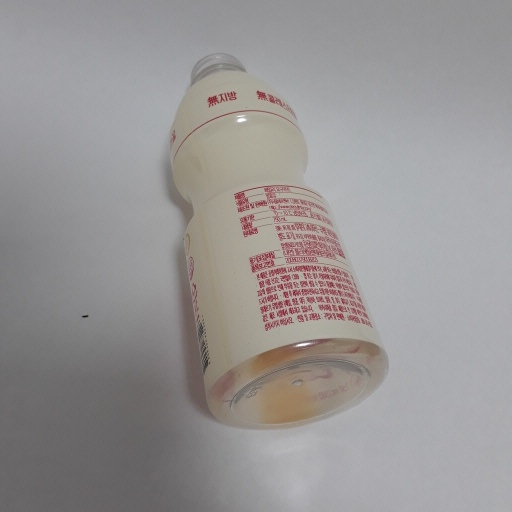Plastic_0: (159, 49, 389, 428)
